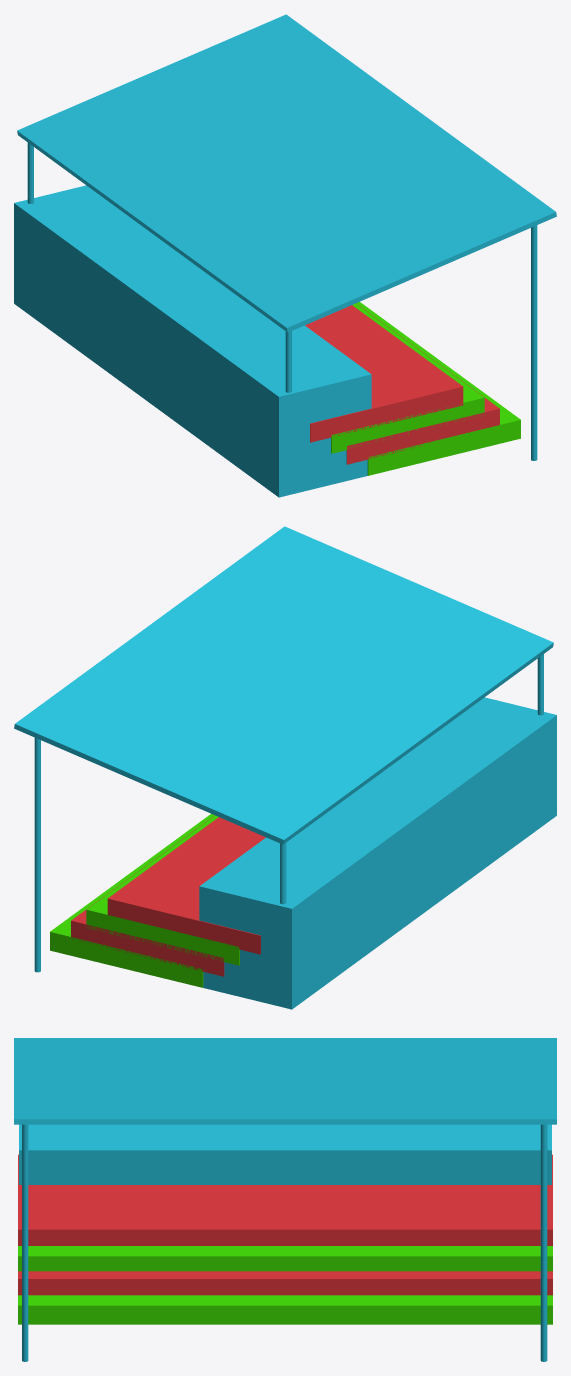
File: stadium.fbx
The picture shows the model from 3 angles, top to bottom: view 1: azimuth 30°, elevation 25°; view 2: azimuth 150°, elevation 25°; view 3: azimuth 270°, elevation 25°; orthographic projection.
Parts seen in each view (by area): view 1: Cube.005, Cube.004, Cube.003, Cube, Cube.002, Cube.001, Cylinder.003; view 2: Cube.005, Cube.004, Cube.003, Cube, Cube.002, Cube.001, Cylinder.002; view 3: Cube.005, Cube.003, Cube.004, Cube, Cube.002, Cube.001, Cylinder.002, Cylinder.003.
Boxes of the visible parts, <box> form: Cube.005: <box>17,14,556,332</box>; Cube.004: <box>14,185,371,497</box>; Cube.003: <box>305,305,463,442</box>; Cube: <box>356,302,520,475</box>; Cube.002: <box>331,303,484,453</box>; Cube.001: <box>346,303,499,464</box>; Cylinder.003: <box>531,225,537,460</box>; Cube.005: <box>14,526,553,844</box>; Cube.004: <box>199,697,556,1009</box>; Cube.003: <box>107,817,265,954</box>; Cube: <box>50,814,214,987</box>; Cube.002: <box>86,815,239,965</box>; Cube.001: <box>71,815,224,976</box>; Cylinder.002: <box>34,738,40,972</box>; Cube.005: <box>14,1038,556,1124</box>; Cube.003: <box>18,1154,552,1245</box>; Cube.004: <box>19,1124,551,1184</box>; Cube: <box>18,1295,552,1324</box>; Cube.002: <box>18,1246,552,1271</box>; Cube.001: <box>18,1271,552,1295</box>; Cylinder.002: <box>540,1124,547,1361</box>; Cylinder.003: <box>22,1124,28,1361</box>.
Bounding box in the file's own units: 3069 × 2637 × 5205.
